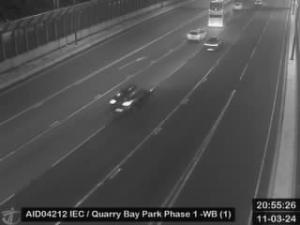bus: (208, 0, 232, 26)
vehicle: (106, 83, 148, 113), (202, 37, 224, 52), (187, 29, 207, 44), (232, 3, 244, 10), (254, 1, 262, 6)
